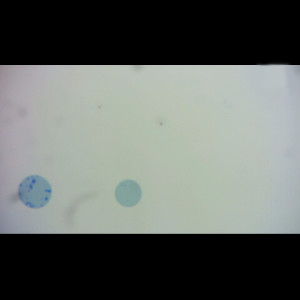aggregate reticulocyte: (16, 174, 53, 210)
punctate reticulocyte: (113, 178, 143, 208)
